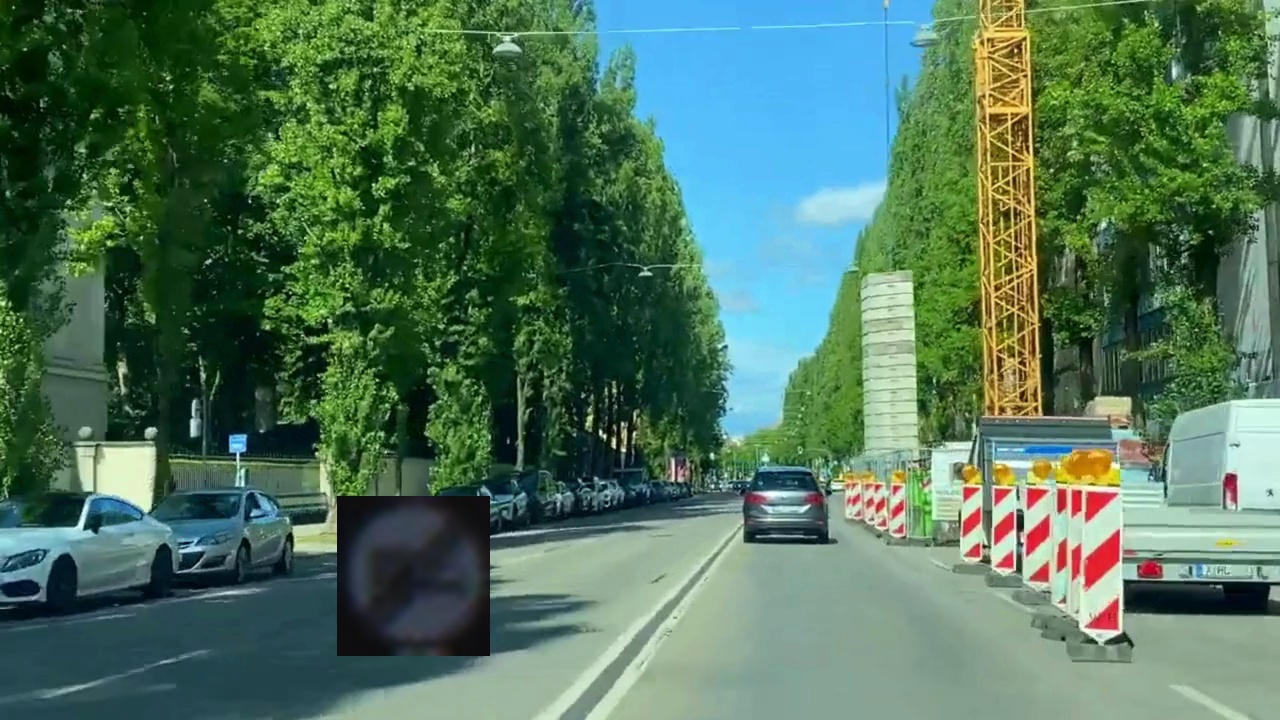End no pass >3.5t: (337, 496, 490, 656)
